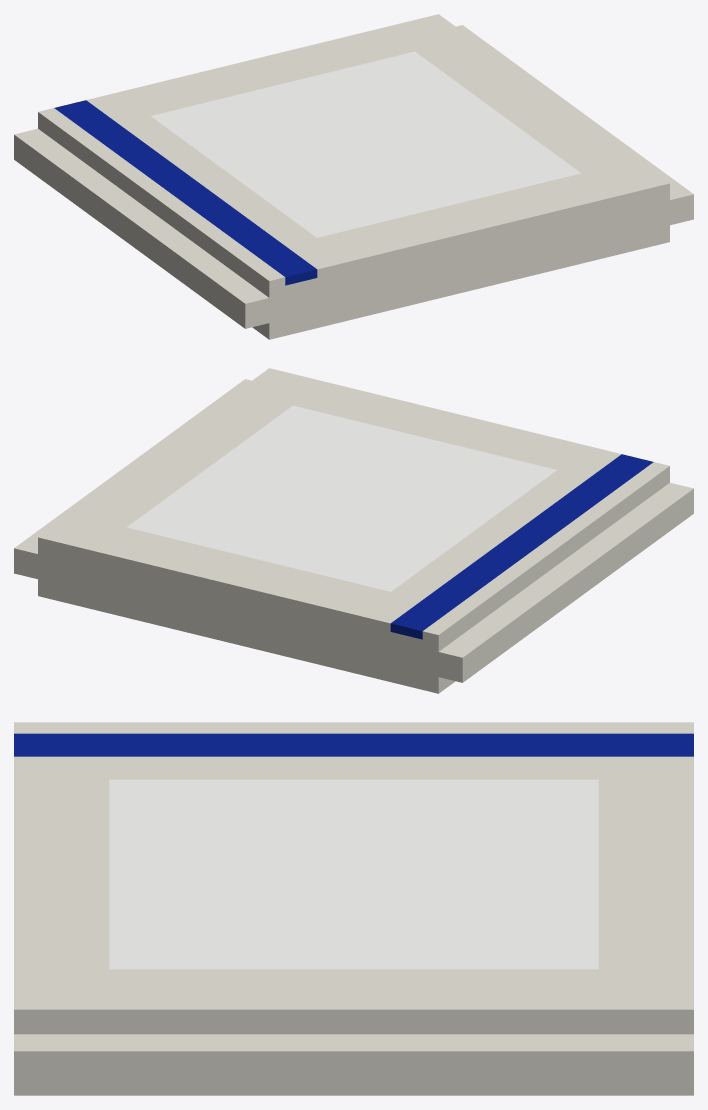
Rendered from medical_gauze.glb.
3 views of the same model, one above another, from view 1: azimuth 30°, elevation 25°; view 2: azimuth 150°, elevation 25°; view 3: azimuth 270°, elevation 25° (orthographic). The views are drawn at different scales.
Parts seen in each view (by area): view 1: medical_gauze:compound; view 2: medical_gauze:compound; view 3: medical_gauze:compound.
Boxes of the visible parts, box(x1,y1,x2,y2) form: medical_gauze:compound: box(14, 14, 693, 339); medical_gauze:compound: box(14, 368, 693, 693); medical_gauze:compound: box(14, 722, 693, 1095).
Bounding box in the file's own units: 0.112 × 0.014 × 0.1.
